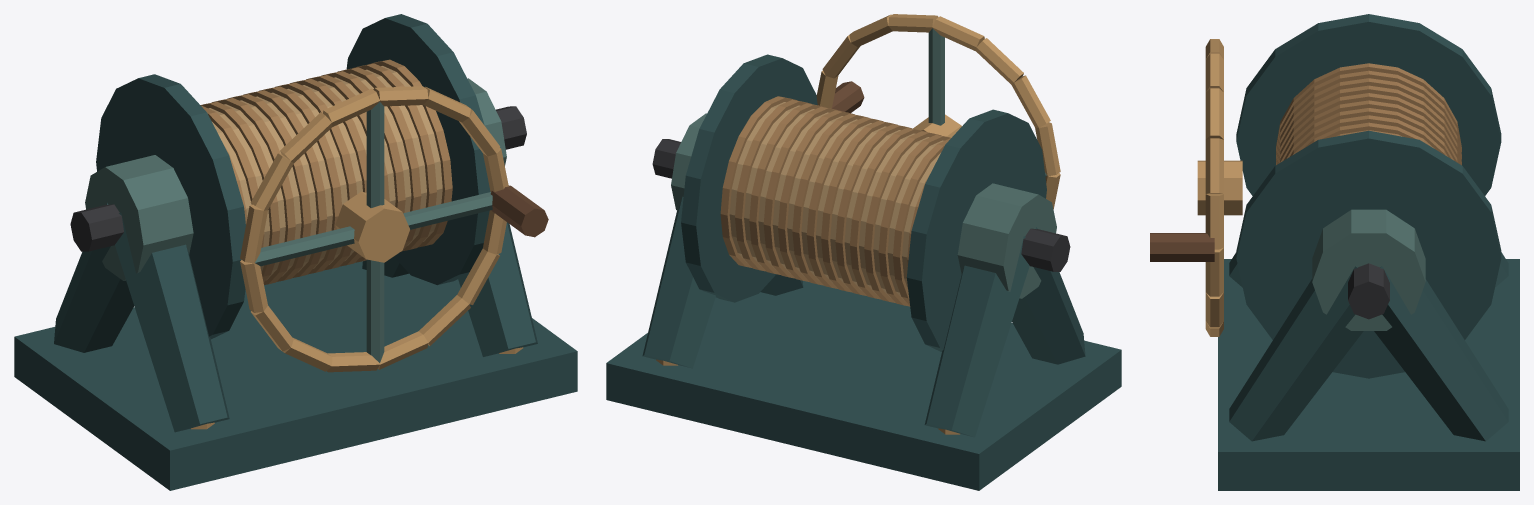
Rendered from sounding_drum.glb.
3 views of the same model, side by side, from view 1: azimuth 30°, elevation 25°; view 2: azimuth 150°, elevation 25°; view 3: azimuth 270°, elevation 25° (orthographic). The views are drawn at different scales.
Visible parts, largest first — view 1: sounding_drum; view 2: sounding_drum; view 3: sounding_drum.
Boxes of the visible parts, left/top/right/bottom form: sounding_drum: left=14, top=14, right=577, bottom=490; sounding_drum: left=606, top=14, right=1121, bottom=490; sounding_drum: left=1150, top=14, right=1519, bottom=490.
Bounding box in the file's own units: 0.79 × 0.6117 × 0.6.
